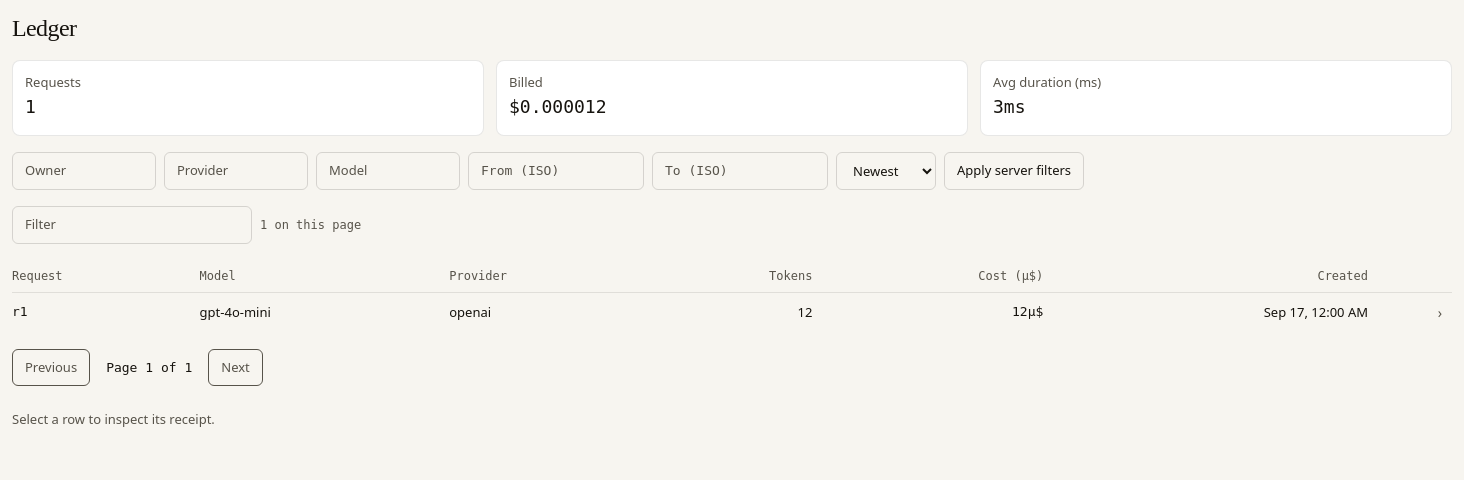
LedgerPage › rejects malformed window dates before fetching
Expected: the table is shown, [12,260,1452,332]
Step 1. Type "oops" into the field named "server filter window start" → (556, 171), box [468,152,644,190]
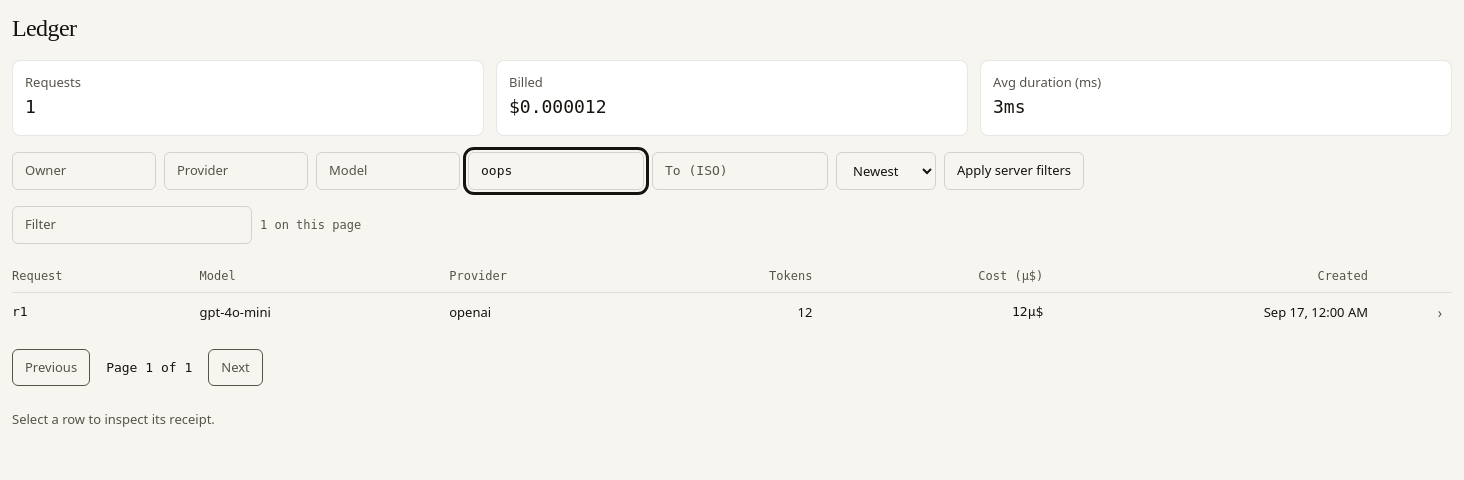
Step 2. Click the button "Apply server filters" → (1014, 171), box [944,152,1084,190]
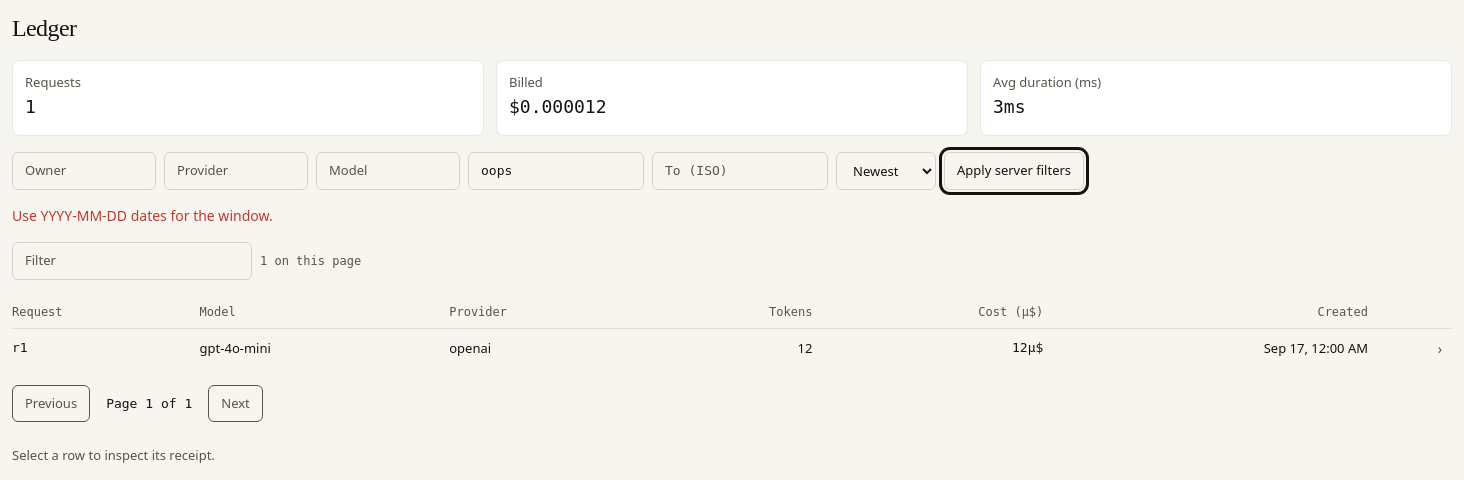
Now the text "Use YYYY-MM-DD dates for the window." is shown, box [12,206,273,225]
